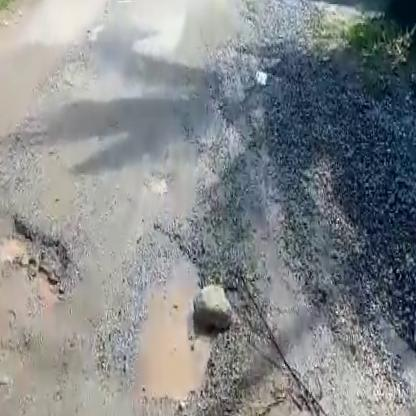pothole: (109, 267, 240, 413), (0, 213, 71, 307)
